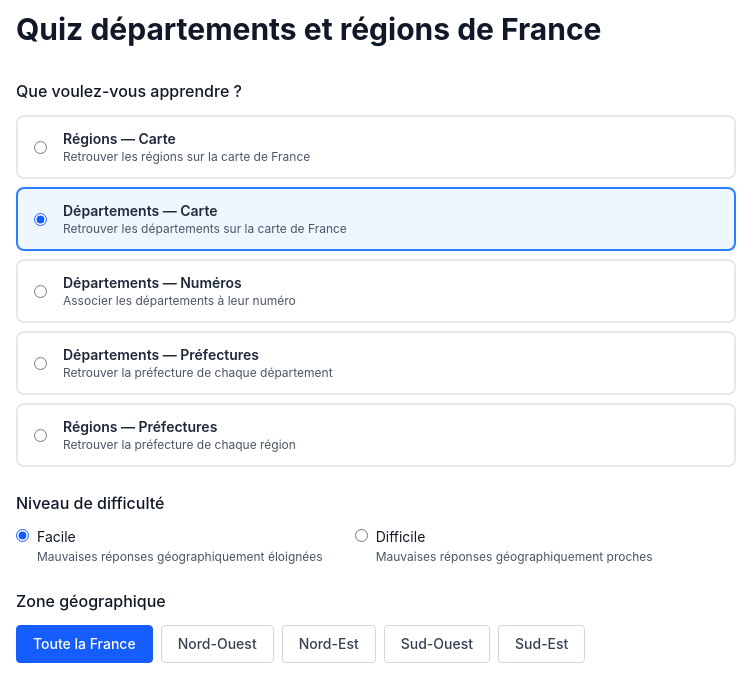
Test: QuizConfig – interaction difficulté › change la difficulté en cliquant "difficile"
Click the radio button labelled "difficile": point(361, 536) left=355, top=529, right=368, bottom=542
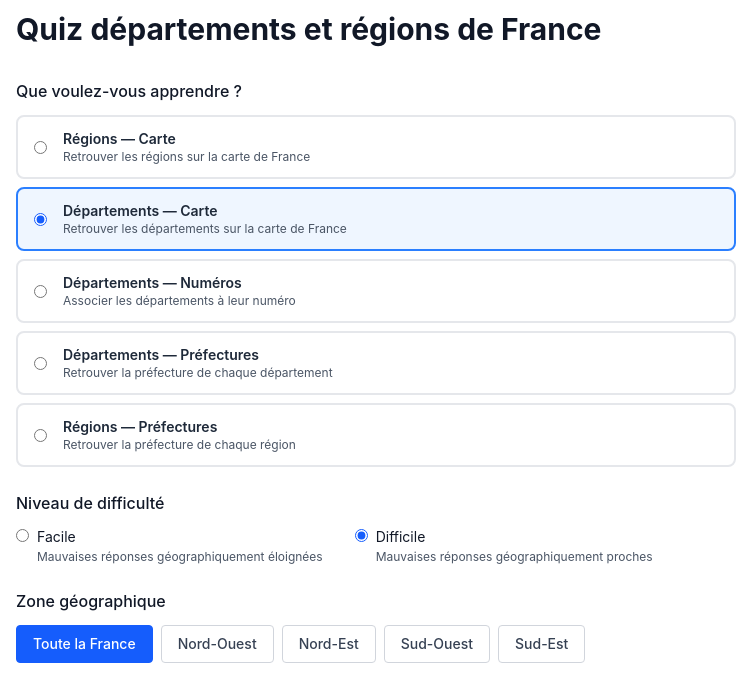
Now the radio button labelled "difficile" is checked, box left=355, top=529, right=368, bottom=542
Now the radio button labelled "facile" is not checked, box left=16, top=529, right=29, bottom=542
